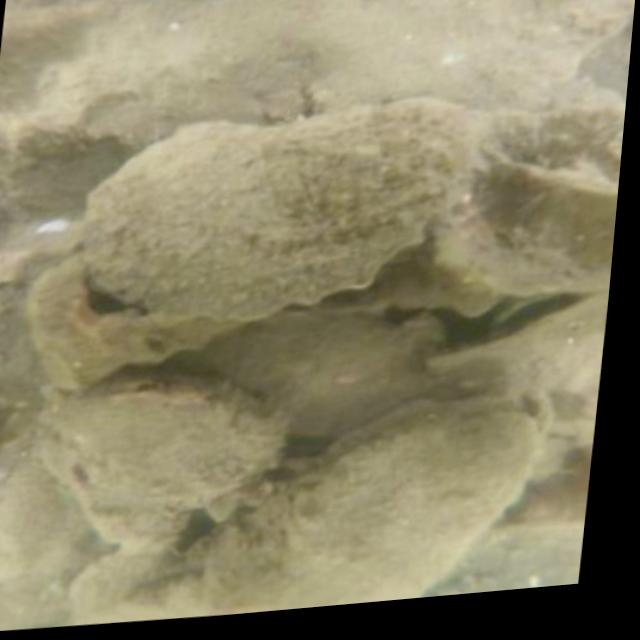Oyster-Closed: (200, 388, 555, 603)
Oyster-Indeterminate: (76, 103, 484, 327), (35, 392, 268, 543), (196, 314, 426, 438), (490, 149, 619, 211)
